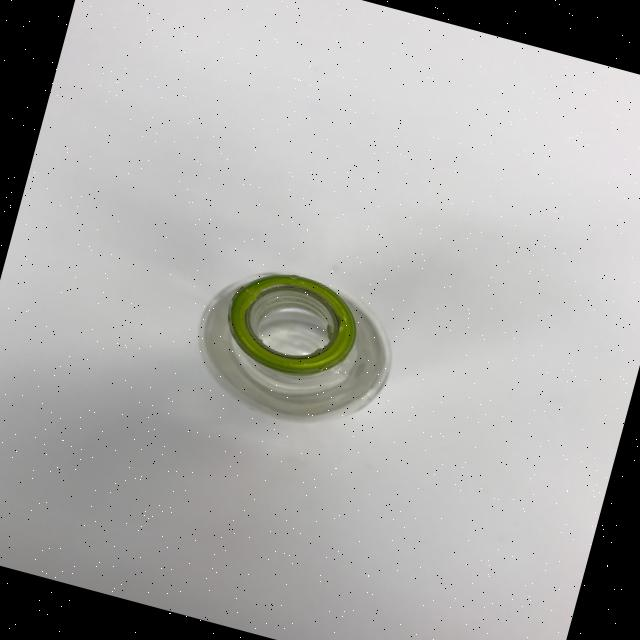glass: (180, 251, 408, 440)
